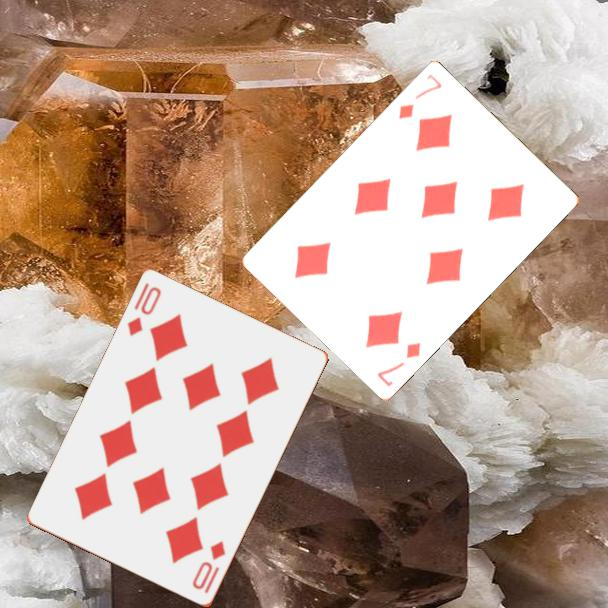d07: (373, 338, 424, 389), (395, 70, 445, 121)
d10: (124, 279, 164, 340), (189, 538, 229, 597)
